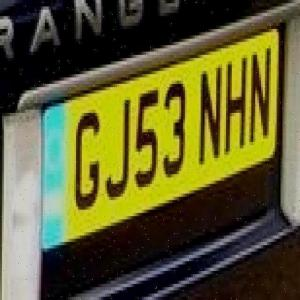Plate: (16, 13, 290, 276)
